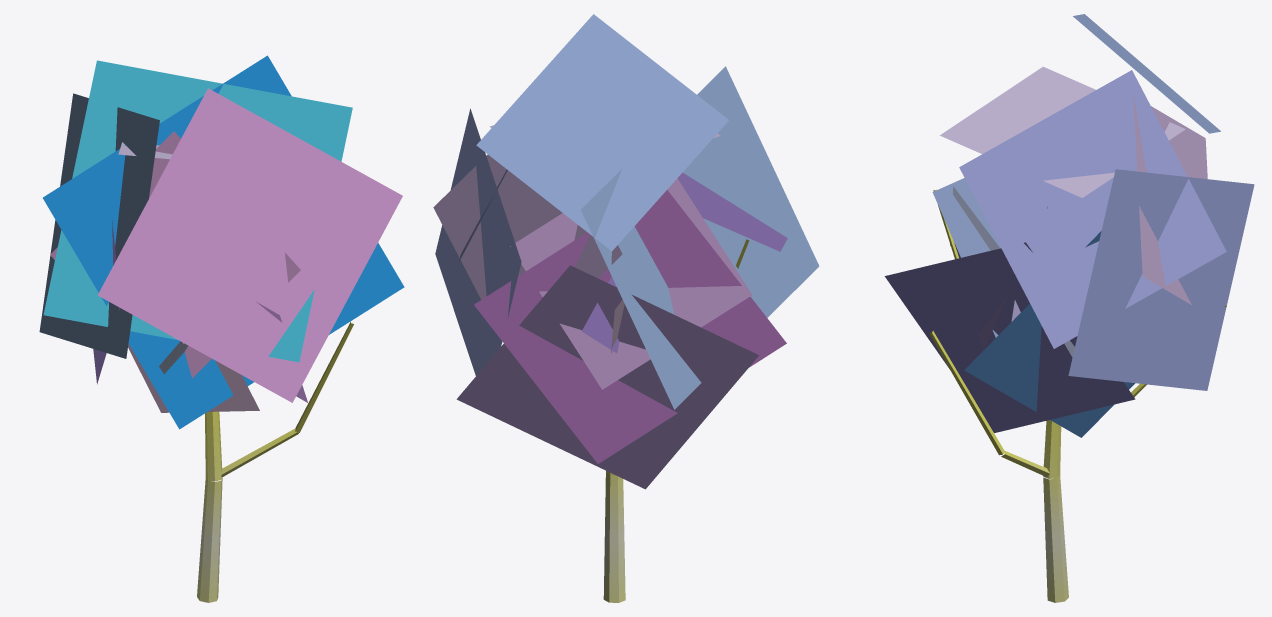
Rendered from tree_oak_0.glb.
3 views of the same model, side by side, from view 1: azimuth 30°, elevation 25°; view 2: azimuth 150°, elevation 25°; view 3: azimuth 270°, elevation 25° (orthographic). The views are drawn at different scales.
Visible parts, largest first — view 1: tree_oak_0; view 2: tree_oak_0; view 3: tree_oak_0.
Boxes of the visible parts, x1=… form: tree_oak_0: x1=39, y1=55, x2=404, y2=602; tree_oak_0: x1=433, y1=14, x2=819, y2=602; tree_oak_0: x1=884, y1=14, x2=1254, y2=602.
Bounding box in the file's own units: 6.94 × 11.15 × 6.72.
